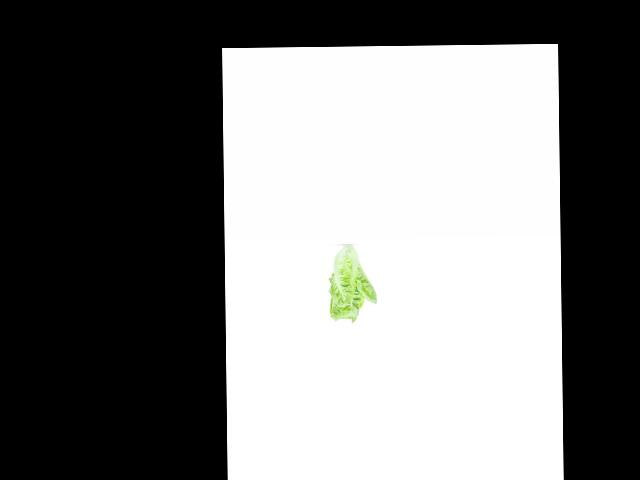lettuce: (325, 247, 377, 324)
